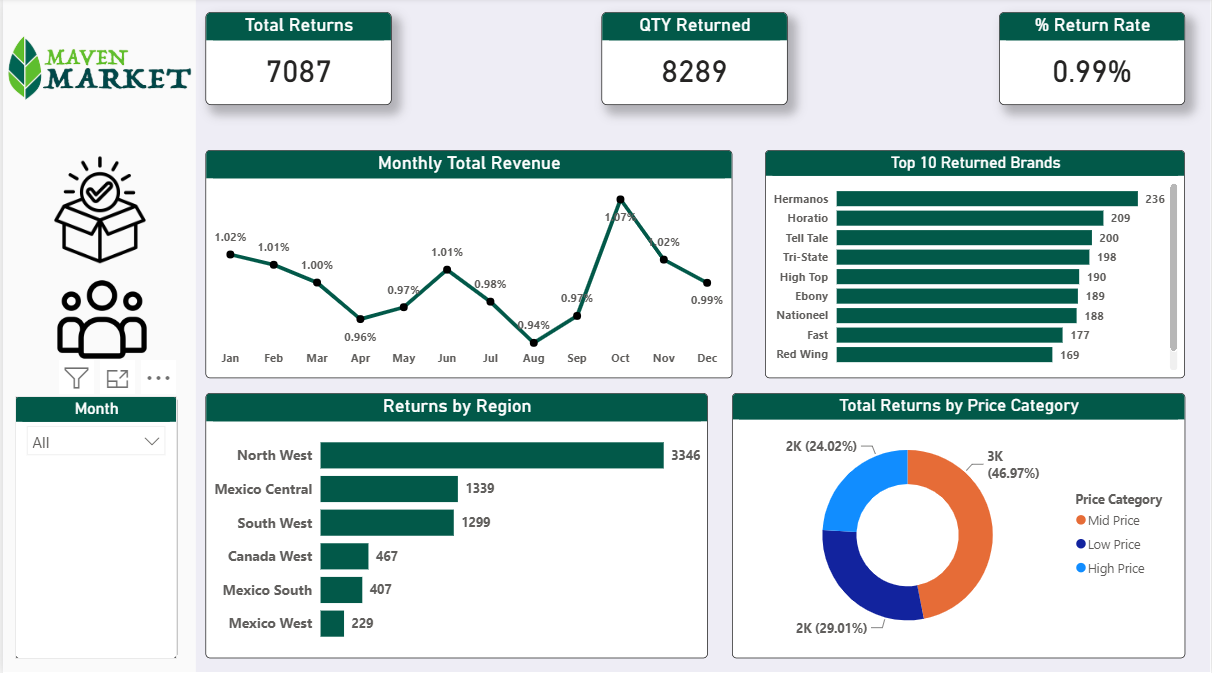

The dashboard page shown, as its layout file describes it:
{"tool":"powerbi","page":{"name":"Returns","canvas":[1280,720],"ordinal":4},"visuals":[{"type":"image","box":[0,0,203.3,150],"z":0},{"type":"card","title":"% Return Rate","fields":{"Values":["_measures.%Return Rate"]},"box":[1056.2,15.9,197.2,98.6],"z":1},{"type":"card","title":"QTY Returned","fields":{"Values":["_measures.Qty Returned"]},"box":[635.4,15.9,197.2,98.6],"z":2},{"type":"card","title":"Total Returns","fields":{"Values":["_measures.Total Returns"]},"box":[214.7,15.9,197.2,98.6],"z":4},{"type":"lineChart","title":"Monthly Total Revenue ","fields":{"Category":["DimCalendar.Month"],"Y":["_measures.%Return Rate"]},"box":[215,161.7,558.3,241.7],"z":5},{"type":"clusteredBarChart","title":"Returns by Region","fields":{"Y":["_measures.Total Returns"],"Category":["DimRegions.sales_region"]},"box":[214.7,419.9,532.9,281.5],"z":6},{"type":"clusteredBarChart","title":"Top 10 Returned Brands","fields":{"Category":["DimProducts.product_brand"],"Y":["_measures.Total Returns"]},"box":[808,162.2,445.4,241.8],"z":7},{"type":"donutChart","fields":{"Category":["DimProducts.Price Category"],"Y":["_measures.Total Returns"]},"box":[773,419.9,480.4,281.5],"z":8},{"type":"slicer","title":"Month","fields":{"Values":["DimCalendar.Month"]},"box":[12.7,423.1,171.8,278.4],"z":9},{"type":"image","box":[46.7,166.7,113.3,116.7],"z":10},{"type":"image","box":[55,295,98.3,95],"z":11}]}

Visuals, with their boxes in screenshot pixels (x1, y1, x2, y2), scaled from the page's 1280x720 canvas onto the 1212x673 screenshot:
image: bbox=(0, 0, 192, 140)
"% Return Rate" card: bbox=(1000, 15, 1187, 107)
"QTY Returned" card: bbox=(602, 15, 788, 107)
"Total Returns" card: bbox=(203, 15, 390, 107)
"Monthly Total Revenue " lineChart: bbox=(204, 151, 732, 377)
"Returns by Region" clusteredBarChart: bbox=(203, 392, 708, 656)
"Top 10 Returned Brands" clusteredBarChart: bbox=(765, 152, 1187, 378)
donutChart - DimProducts.Price Category x _measures.Total Returns: bbox=(732, 392, 1187, 656)
"Month" slicer: bbox=(12, 395, 175, 656)
image: bbox=(44, 156, 152, 265)
image: bbox=(52, 276, 145, 365)
